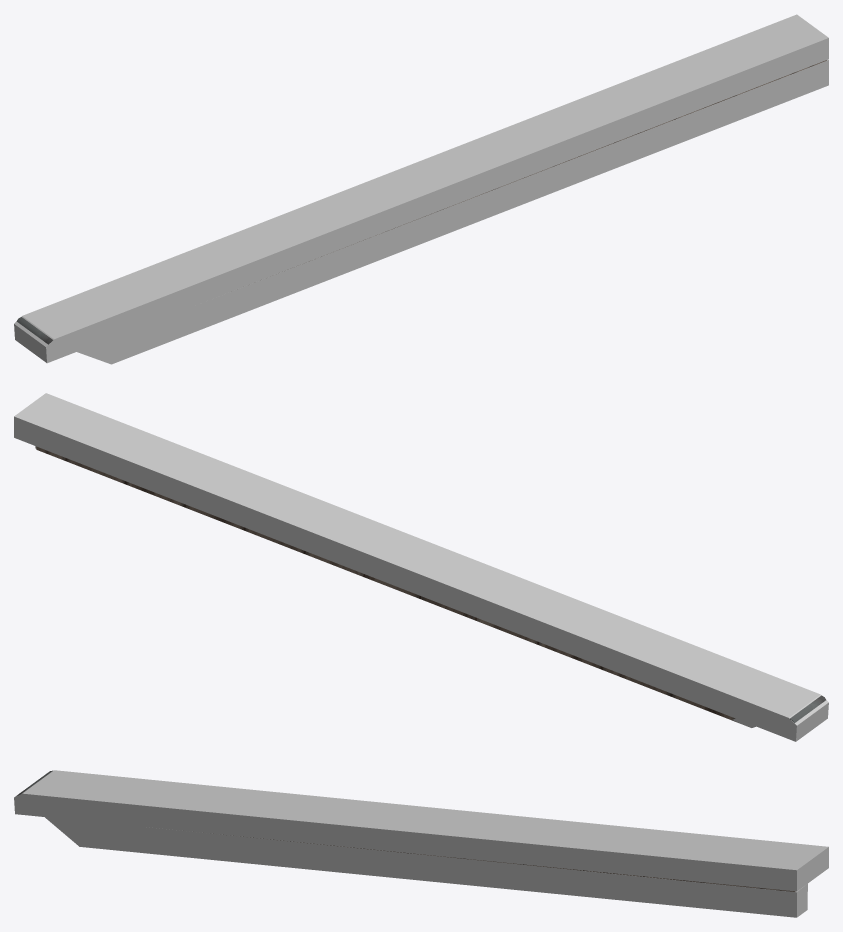
File: SM_M01Roof01_7.fbx
3 views of the same model, one above another, from view 1: azimuth 30°, elevation 25°; view 2: azimuth 150°, elevation 25°; view 3: azimuth 330°, elevation 25° (orthographic).
Visible parts, largest first — view 1: SM_M01Roof01_7_ConvexHulls, SM_M01Roof01_7; view 2: SM_M01Roof01_7_ConvexHulls, SM_M01Roof01_7; view 3: SM_M01Roof01_7_ConvexHulls, SM_M01Roof01_7.
Boxes of the visible parts, box(x1,y1,x2,y2) form: SM_M01Roof01_7_ConvexHulls: box(14, 14, 828, 364); SM_M01Roof01_7: box(16, 60, 826, 344); SM_M01Roof01_7_ConvexHulls: box(14, 393, 828, 741); SM_M01Roof01_7: box(36, 446, 825, 722); SM_M01Roof01_7_ConvexHulls: box(14, 770, 828, 917); SM_M01Roof01_7: box(17, 770, 795, 891).
Bounding box in the file's own units: 391 × 27.7 × 72.31.
Materials: 4 (3 with a texture image).
